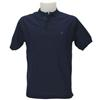abbigliamento_uomo: (10, 9, 91, 96)
